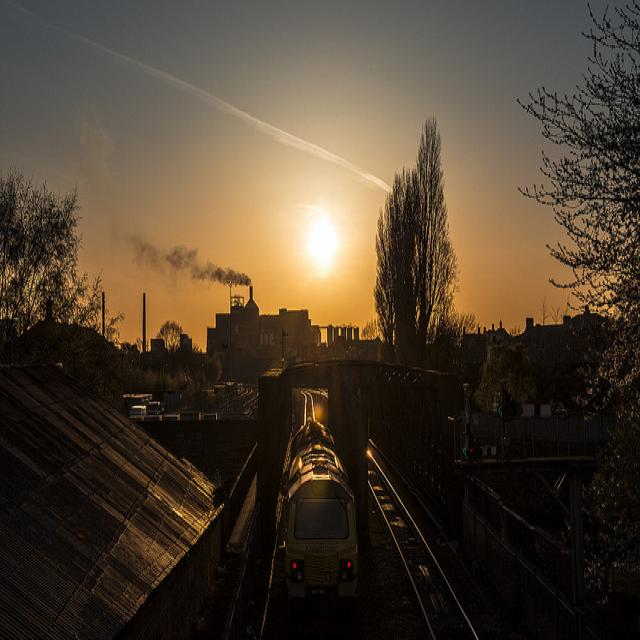Vehicle: (127, 402, 161, 421)
